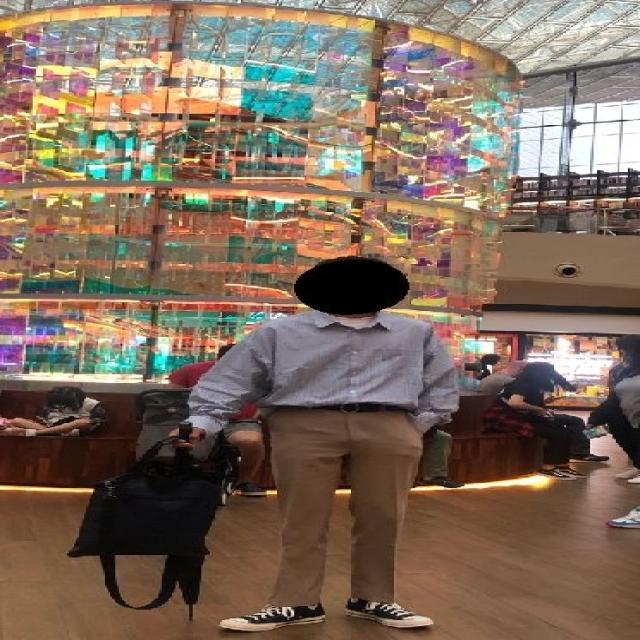shirt: (184, 307, 458, 435)
slacks: (263, 408, 422, 612)
